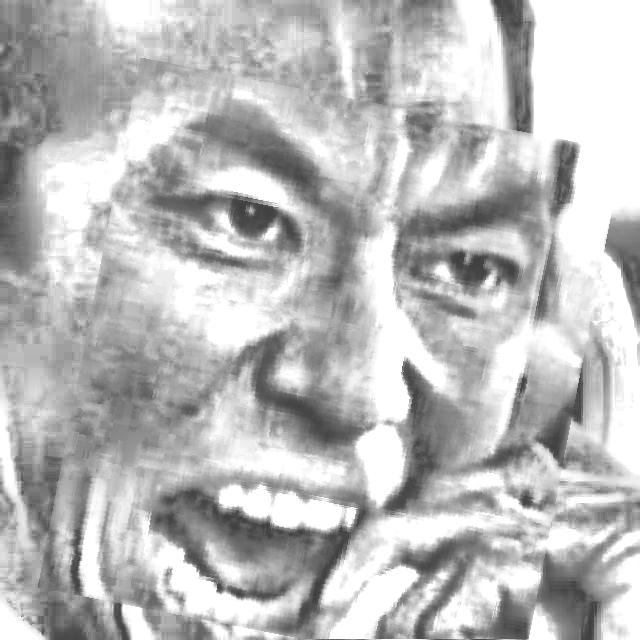angry: (61, 79, 600, 640)
